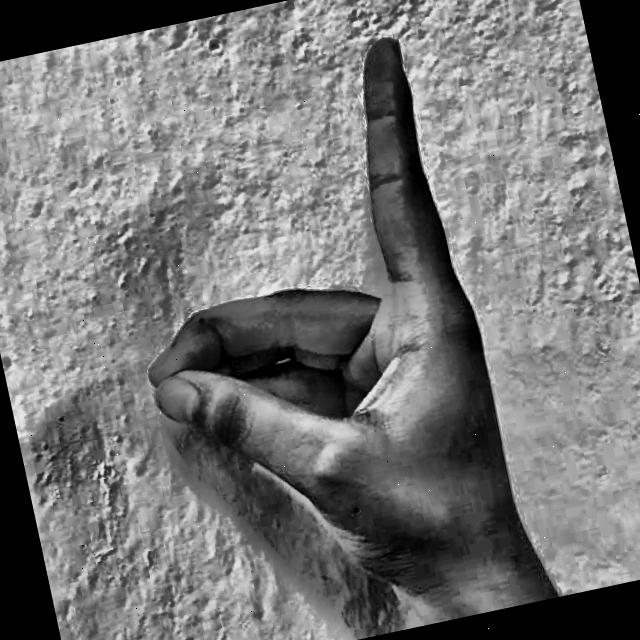Dha: (35, 0, 576, 640)
